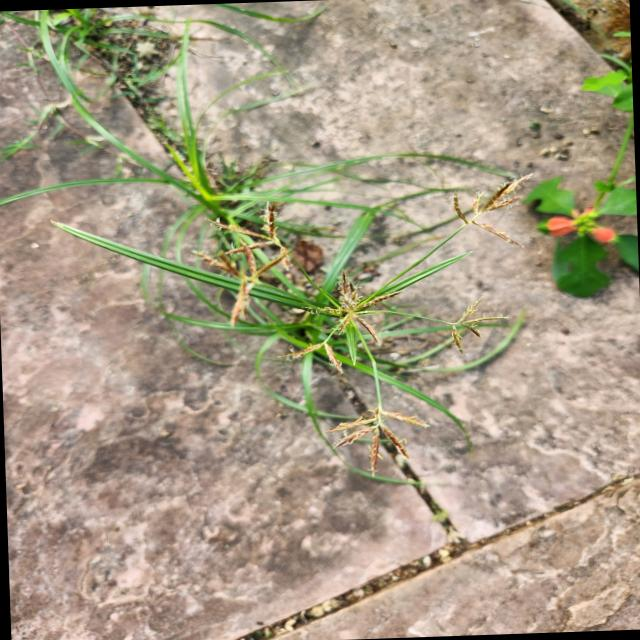cyperus: (183, 178, 548, 485), (187, 188, 310, 322), (274, 273, 394, 377), (446, 162, 542, 260), (339, 408, 442, 476), (422, 291, 496, 345)
